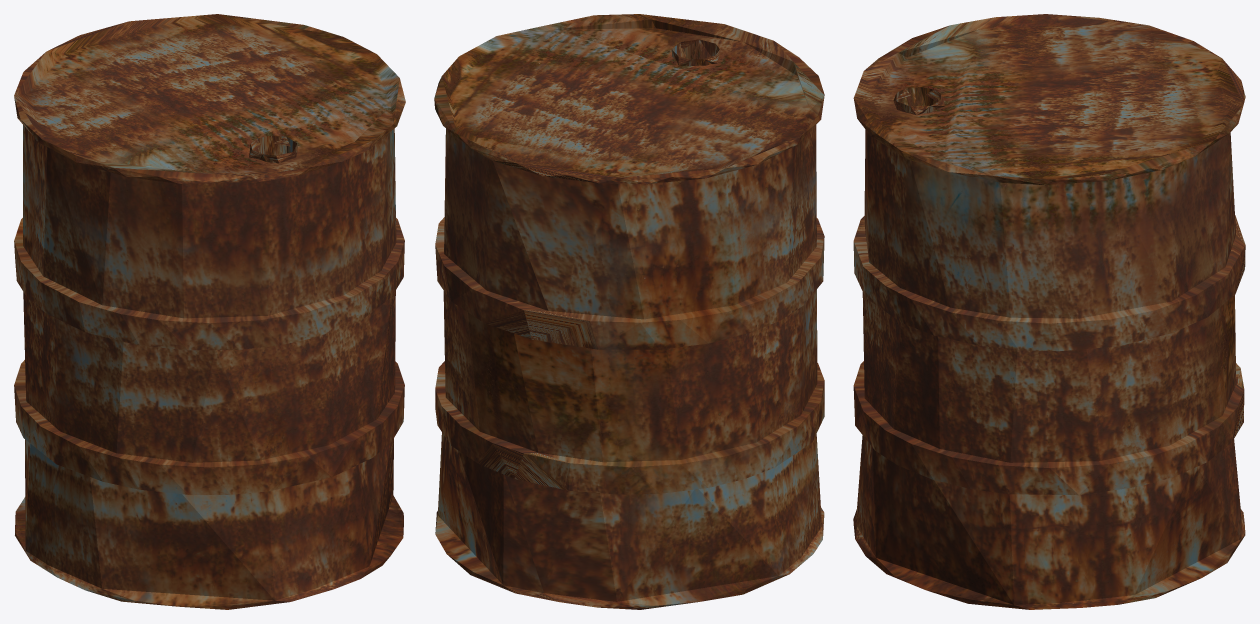
Rendered from barrel .fbx.
3 renders of one model, left to right at view 1: azimuth 30°, elevation 25°; view 2: azimuth 150°, elevation 25°; view 3: azimuth 270°, elevation 25°, orthographic.
Visible parts, largest first — view 1: barrel; view 2: barrel; view 3: barrel.
Part boxes in pixels (box(x1,y1,x2,y2)): barrel: box(14, 14, 405, 609); barrel: box(434, 14, 824, 609); barrel: box(853, 14, 1245, 609).
Size of the model in its own units: 211 by 257 by 211.
